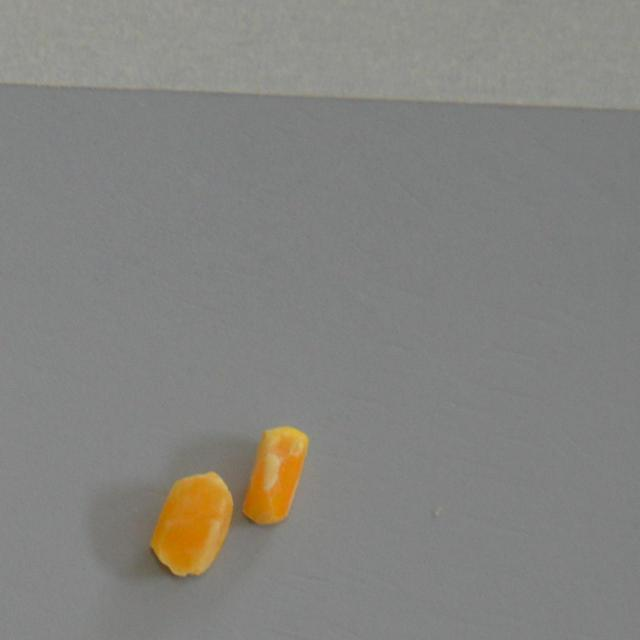pelicula: (138, 457, 244, 587), (236, 420, 312, 525)
